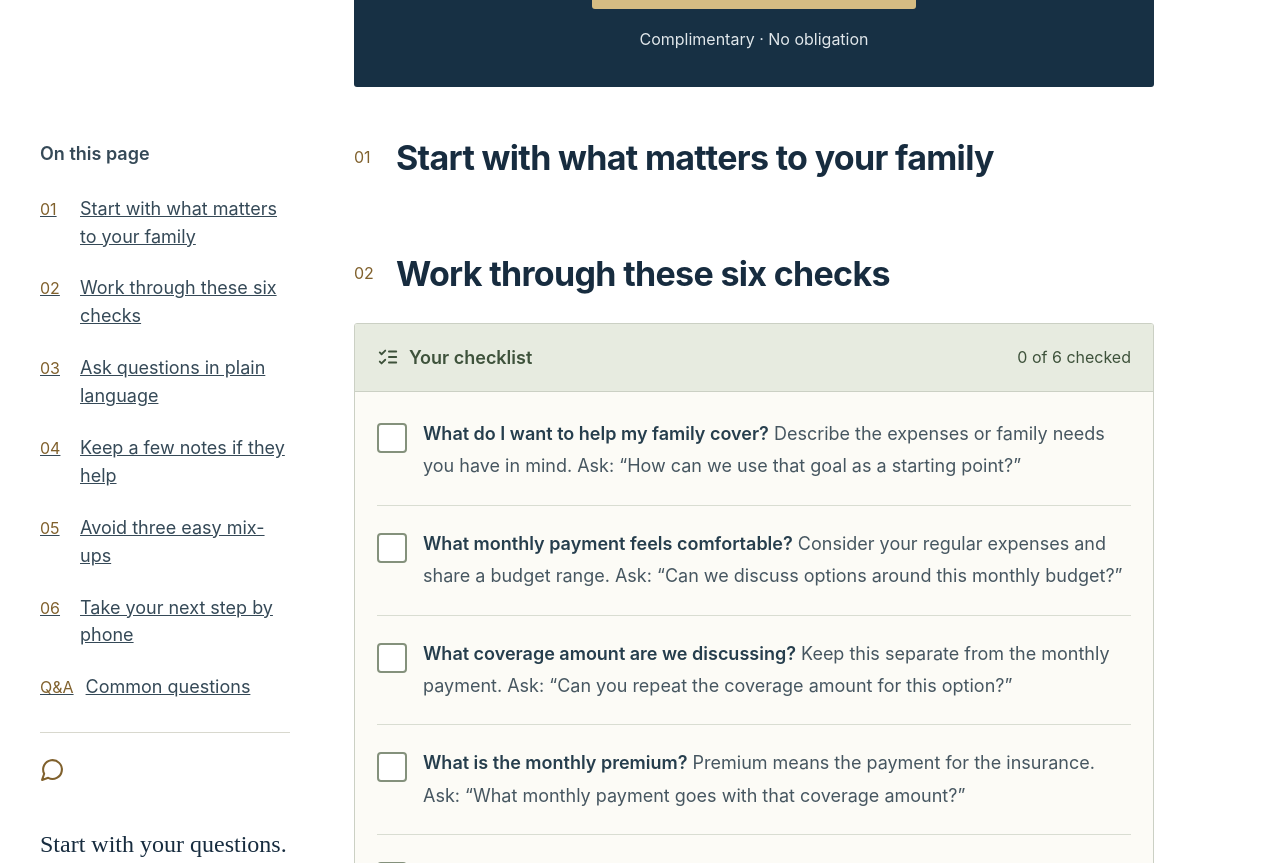
Test: gives the selected guide a working six-item checklist with accessible labels and progress
(page scrolled)
Expected: the text "0 of 6 checked" is shown, [1017,343,1131,371]
Click the checkbox that starts with "What do I want to help my family cover?": (596, 434) [377,423,1105,476]
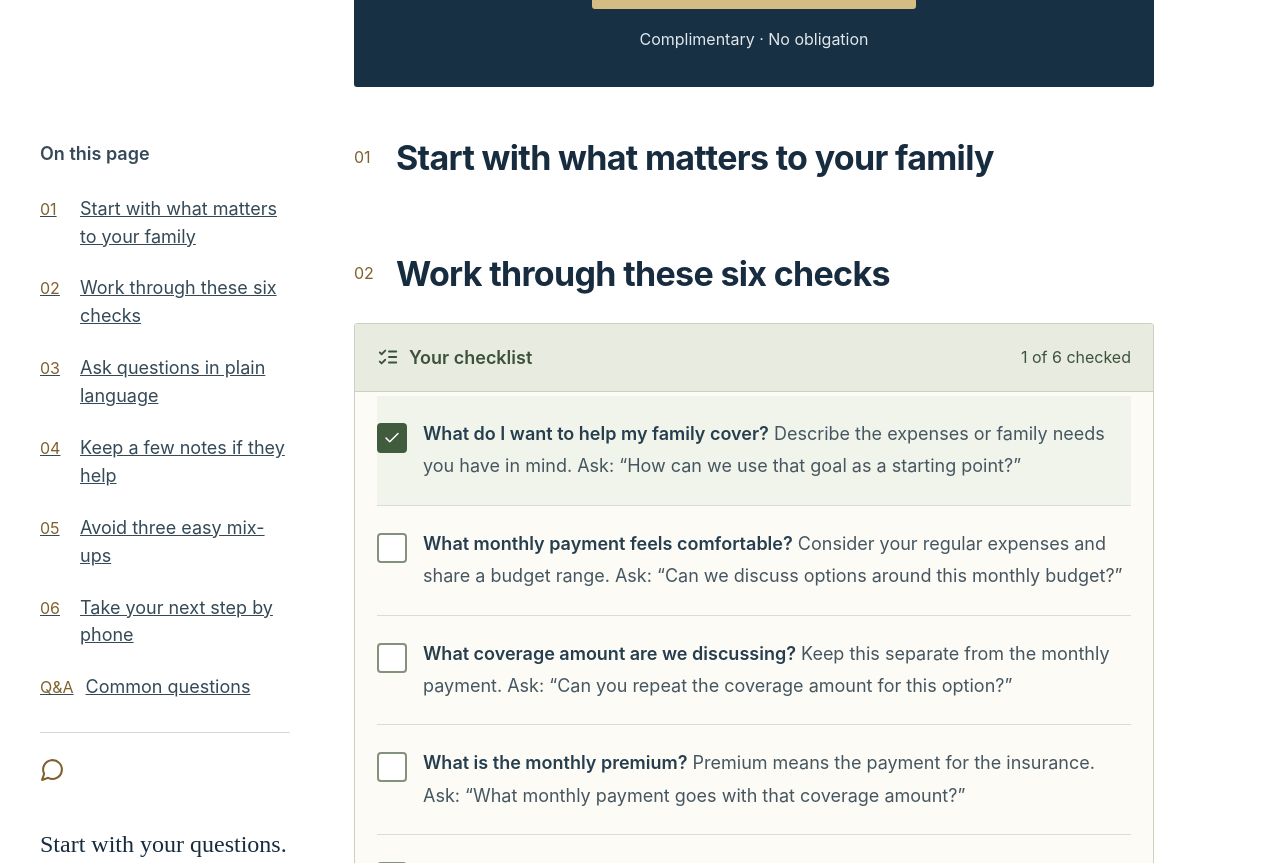
Expected: the checkbox that starts with "What do I want to help my family cover?" is checked
Expected: the text "1 of 6 checked" is shown, [1021,343,1131,371]
Click the checkbox that starts with "What do I want to help my family cover?": (596, 434) [377,396,1131,505]
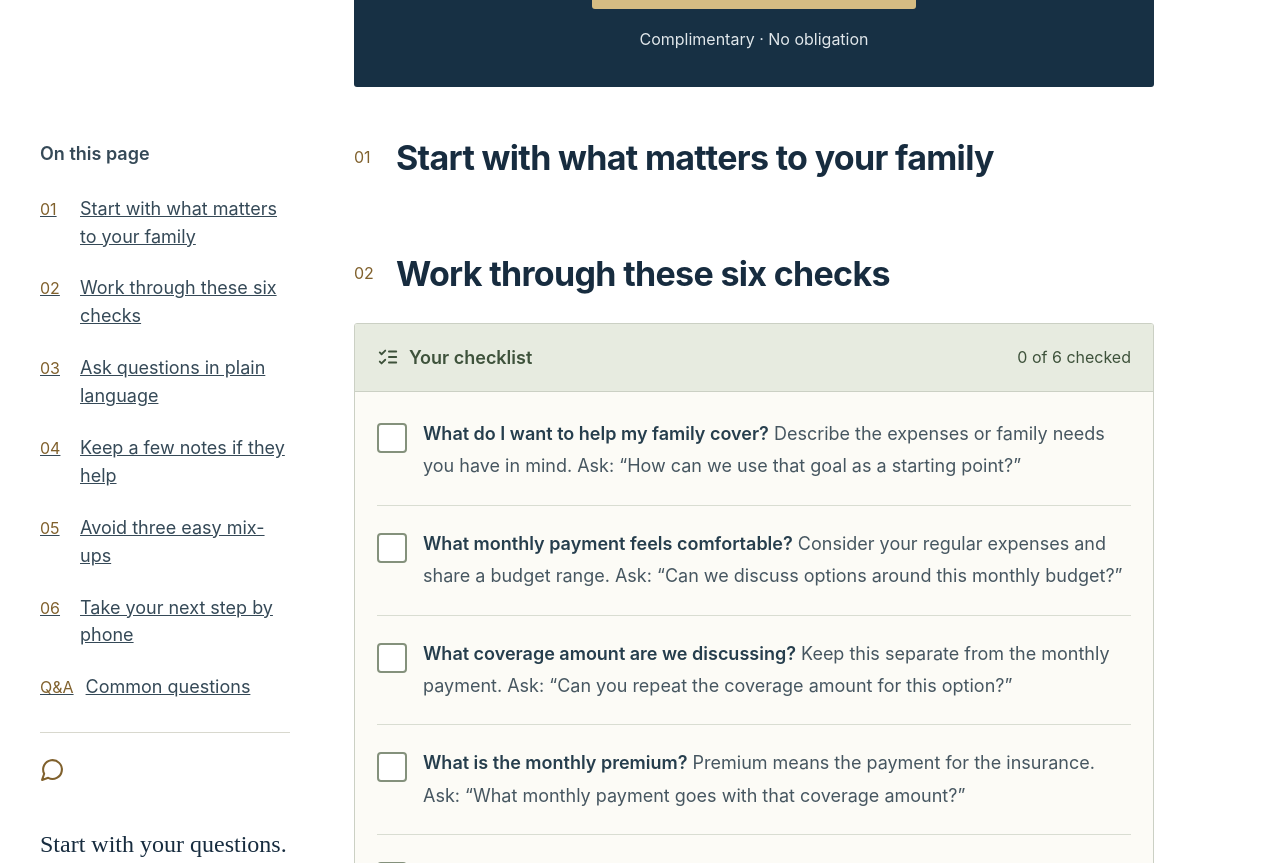
Expected: the text "0 of 6 checked" is shown, [1017,343,1131,371]
